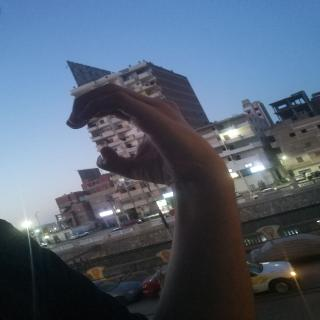JEEM: (42, 77, 209, 185)
